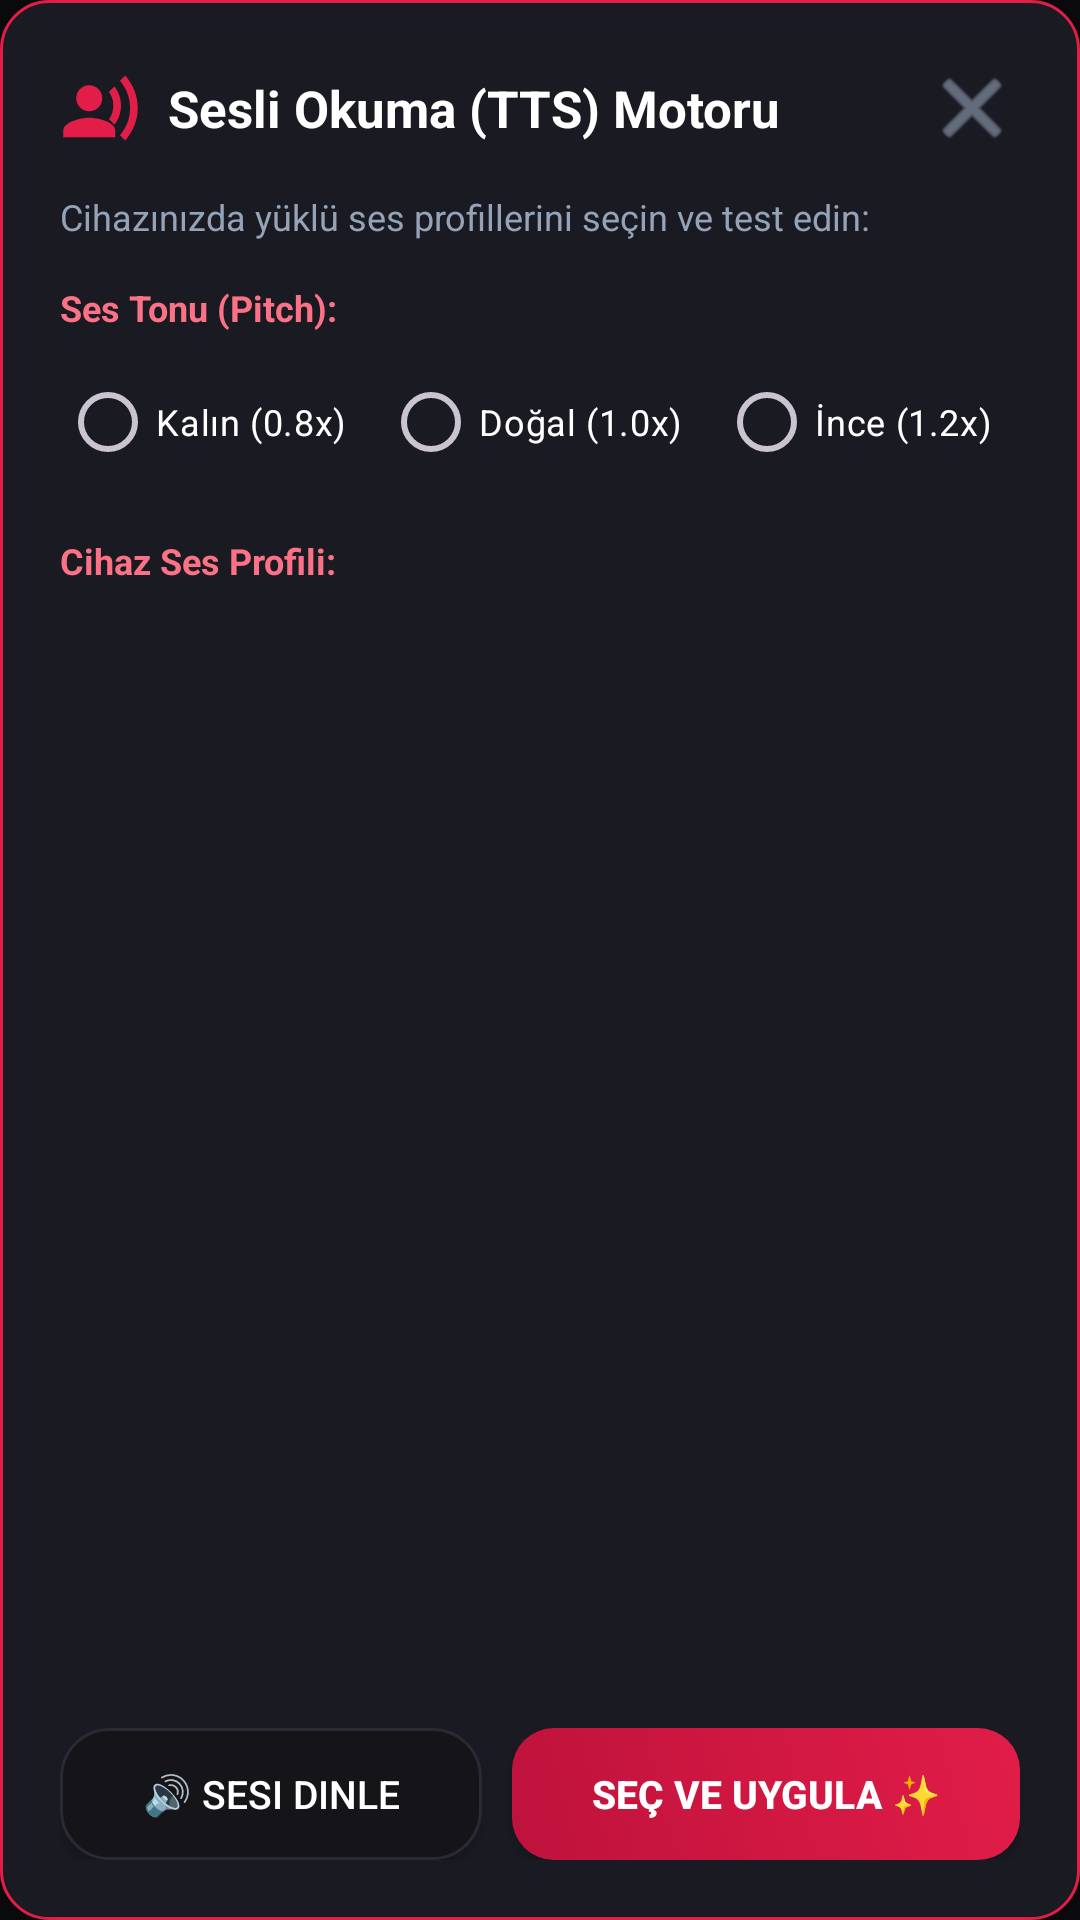

Where icons sit on this 1080px x 1920px app screen, as (x1, y1, x2, y2):
Kapat: (942, 78, 1002, 138)
record voice over: (63, 75, 138, 141)
